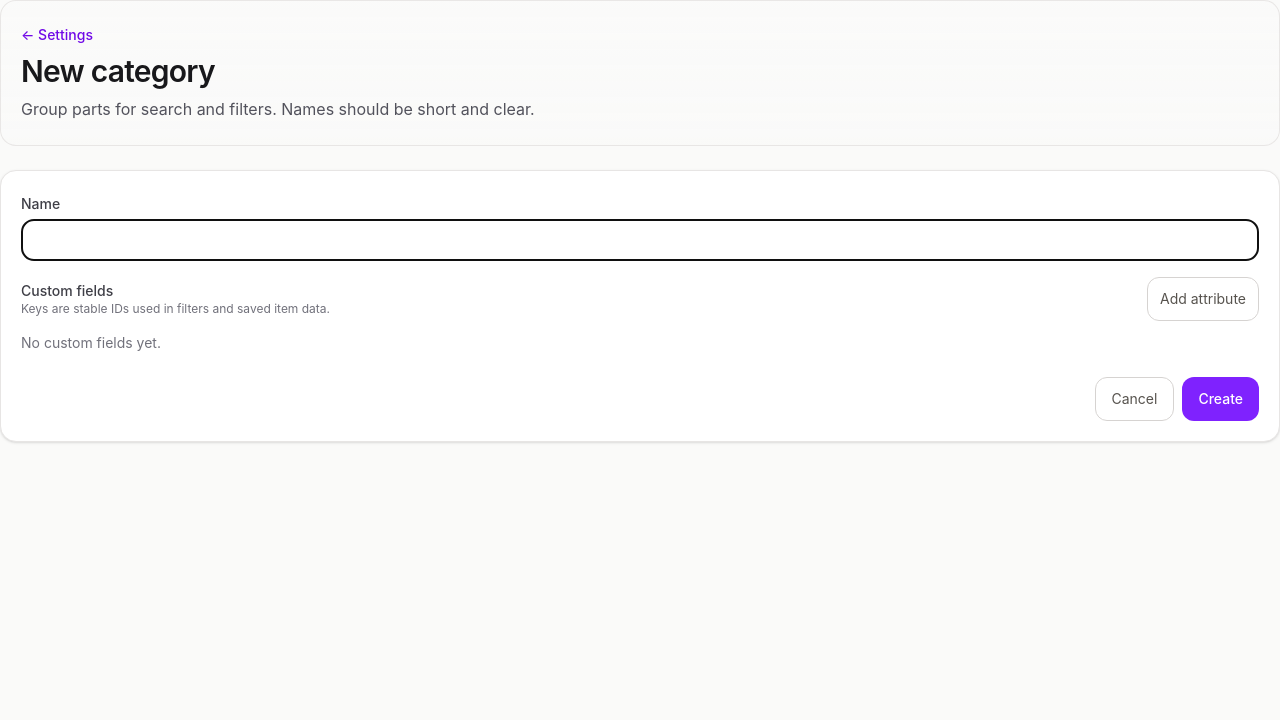
Category attribute screens › allows adding and removing attribute rows in create screen
Check: the text "No custom fields yet." is shown, box left=21, top=334, right=161, bottom=351
Click the button "Add attribute".
click(1203, 299)  # box left=1147, top=277, right=1259, bottom=321
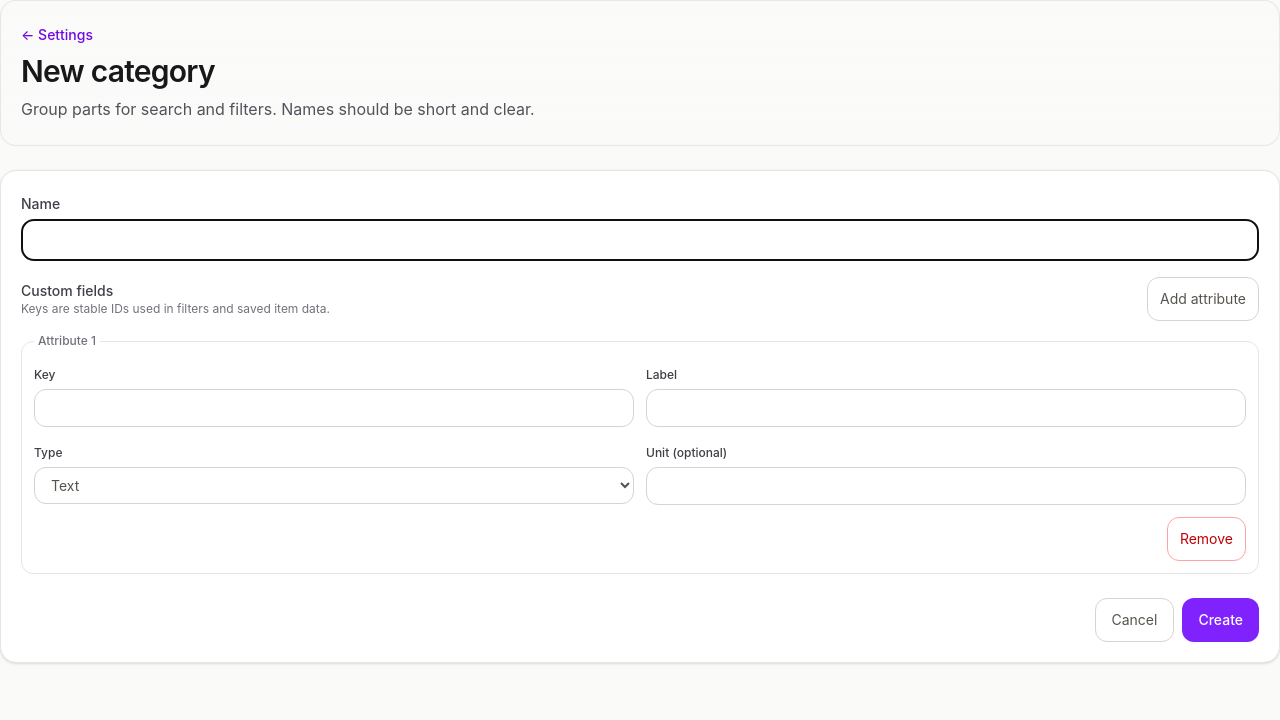
Check: the field labelled "Key" is shown, box left=34, top=389, right=634, bottom=427
Click the button "Remove".
click(1206, 539)  # box left=1167, top=517, right=1246, bottom=561
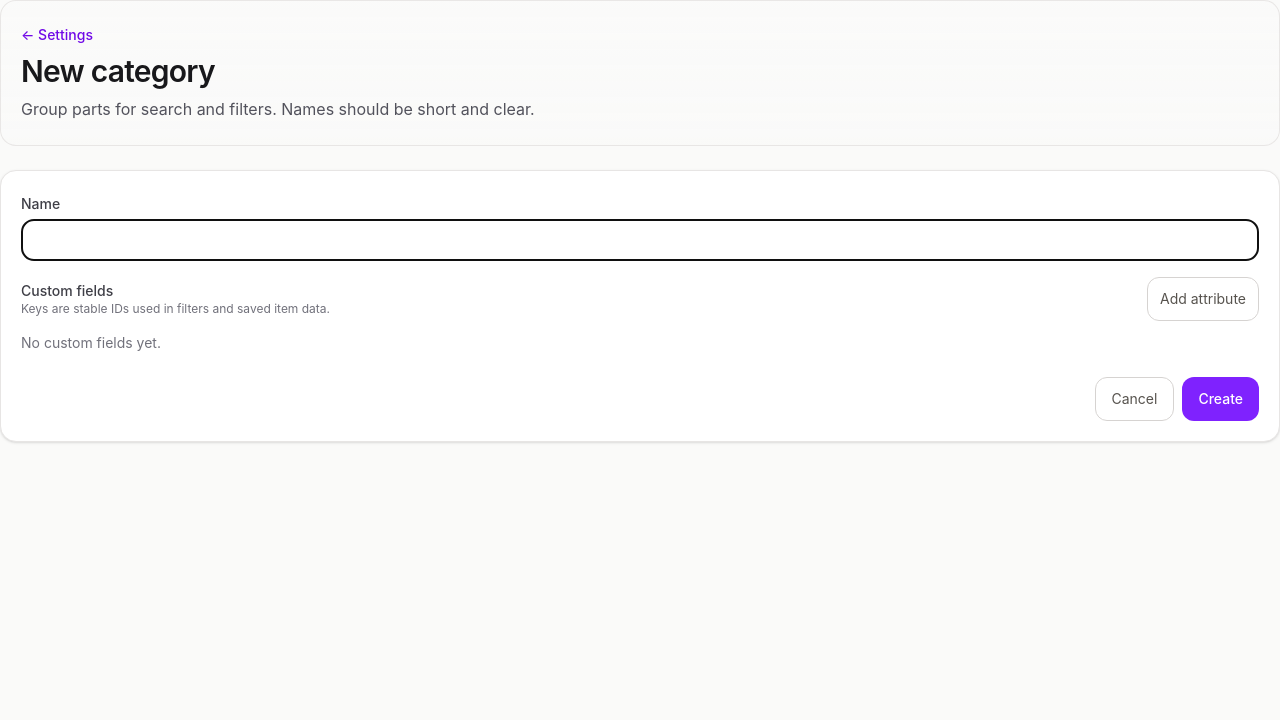
Check: the text "No custom fields yet." is shown, box left=21, top=334, right=161, bottom=351
